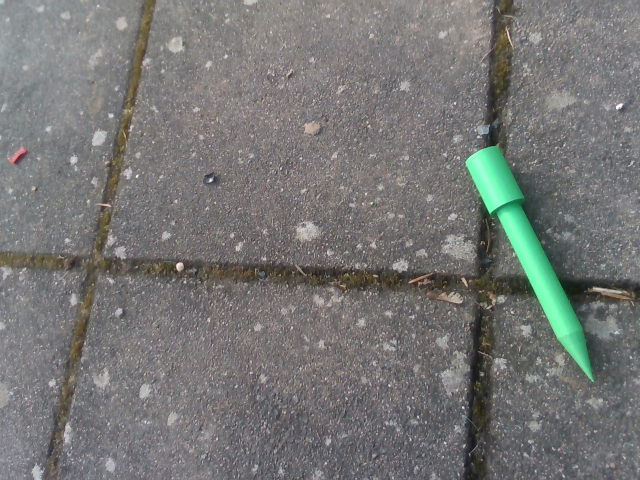Probe: (462, 139, 597, 387)
